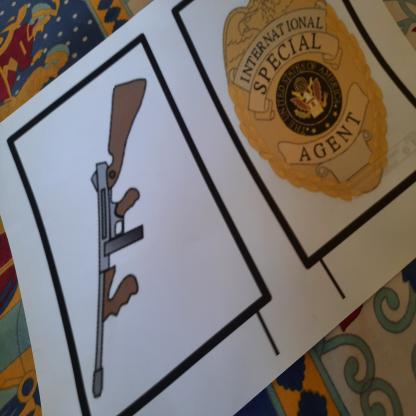Bootlegger: (76, 75, 155, 416)
G-man: (224, 1, 401, 219)
